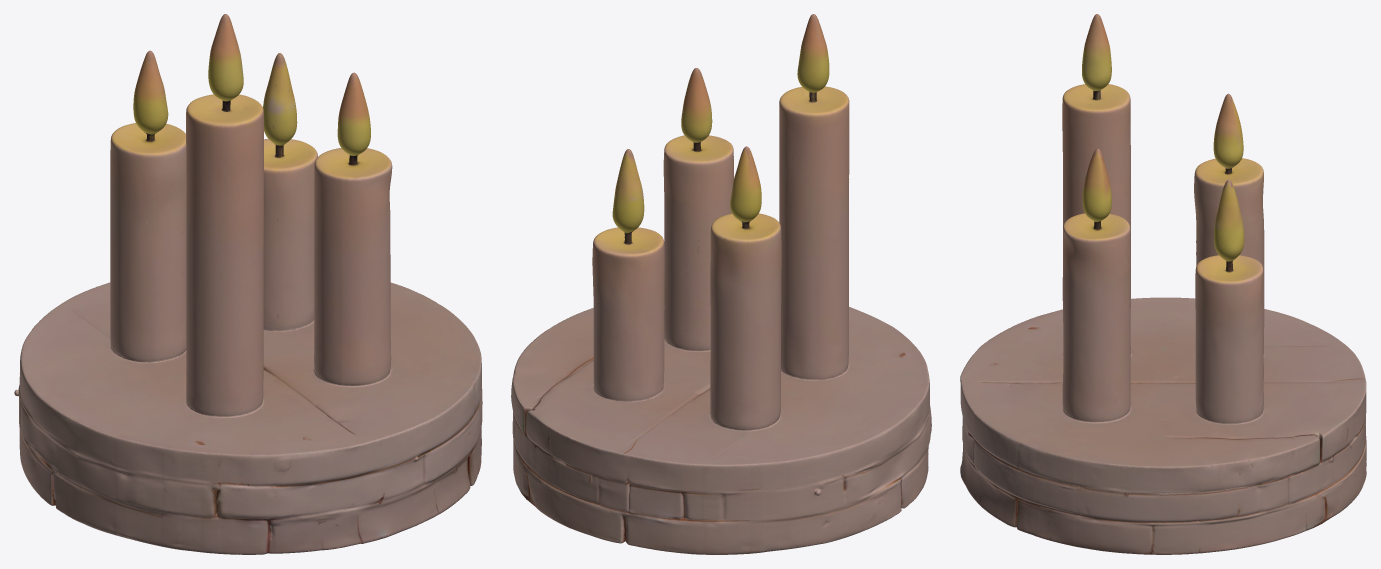
The model's file is detailed_realistic_model_floatingcandles_10.glb.
3 views of the same model, side by side, from view 1: azimuth 30°, elevation 25°; view 2: azimuth 150°, elevation 25°; view 3: azimuth 270°, elevation 25° (orthographic). The views are drawn at different scales.
Visible parts, largest first — view 1: tripo_node_c7b71c47-d59c-464d-b74a-e54917cb8de0; view 2: tripo_node_c7b71c47-d59c-464d-b74a-e54917cb8de0; view 3: tripo_node_c7b71c47-d59c-464d-b74a-e54917cb8de0.
Boxes of the visible parts, <box> form: tripo_node_c7b71c47-d59c-464d-b74a-e54917cb8de0: <box>14,14,482,554</box>; tripo_node_c7b71c47-d59c-464d-b74a-e54917cb8de0: <box>511,14,931,554</box>; tripo_node_c7b71c47-d59c-464d-b74a-e54917cb8de0: <box>960,14,1366,554</box>.
Bounding box in the file's own units: 0.8533 × 1 × 0.8575.
1 material, 1 textured.
